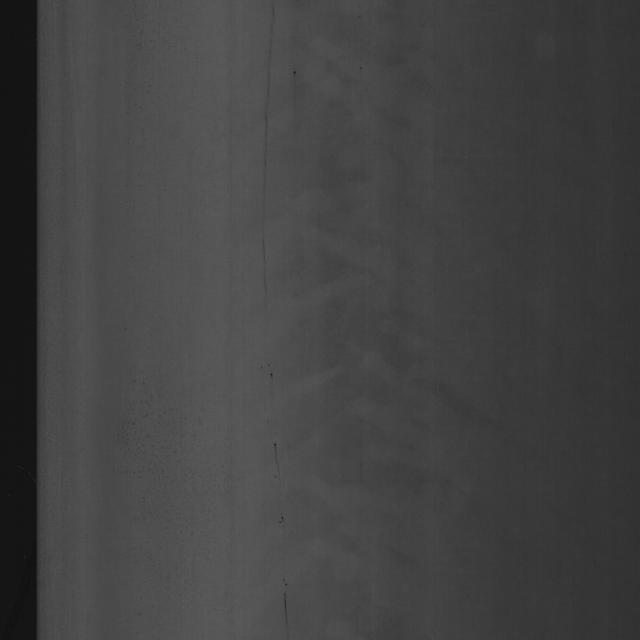oil_spot: (257, 26, 297, 627)
